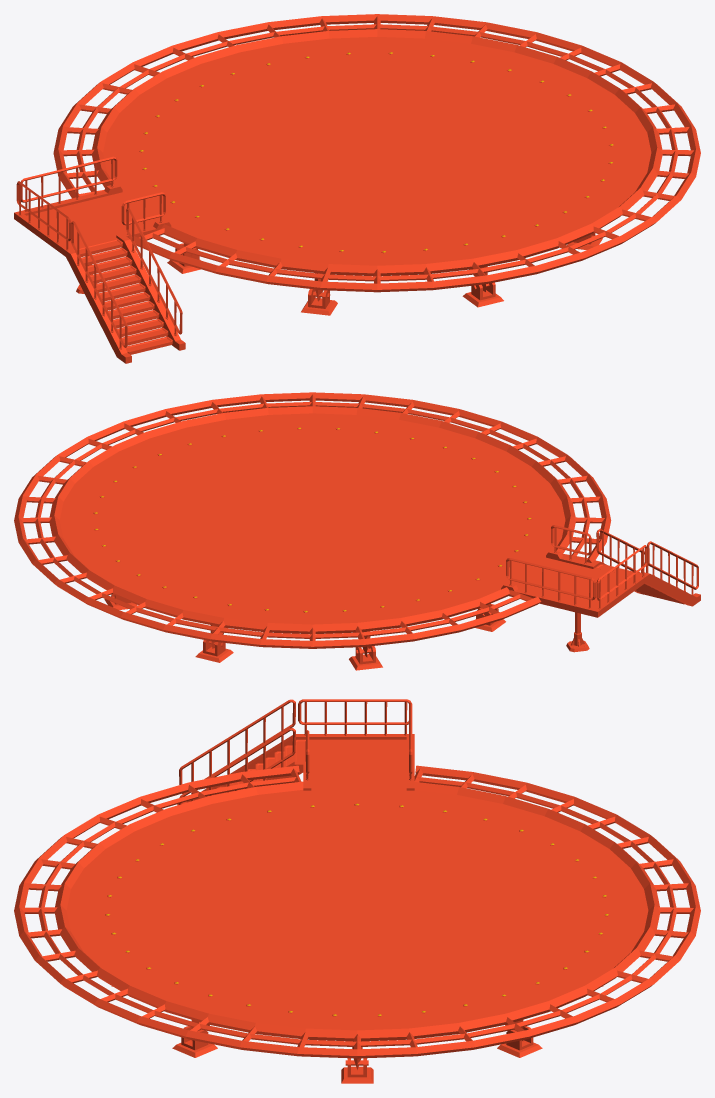
File: SM_Heliport_City.fbx
3 views of the same model, one above another, from view 1: azimuth 30°, elevation 25°; view 2: azimuth 150°, elevation 25°; view 3: azimuth 270°, elevation 25° (orthographic). The views are drawn at different scales.
Parts seen in each view (by area): view 1: SM_Heliport_City; view 2: SM_Heliport_City; view 3: SM_Heliport_City.
Boxes of the visible parts, <box> form: SM_Heliport_City: <box>14,14,700,363</box>; SM_Heliport_City: <box>14,392,700,670</box>; SM_Heliport_City: <box>14,699,700,1083</box>.
Bounding box in the file's own units: 20.35 × 3.25 × 18.5.
